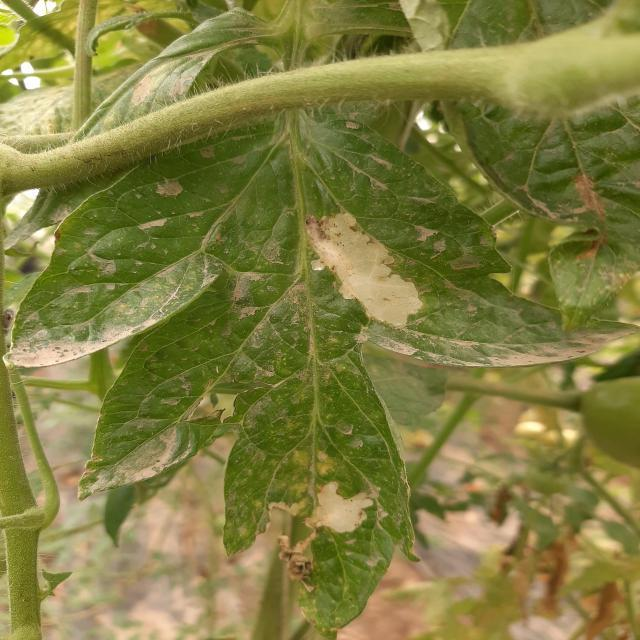Tuta absoluta: (284, 194, 434, 342), (305, 477, 376, 545)
